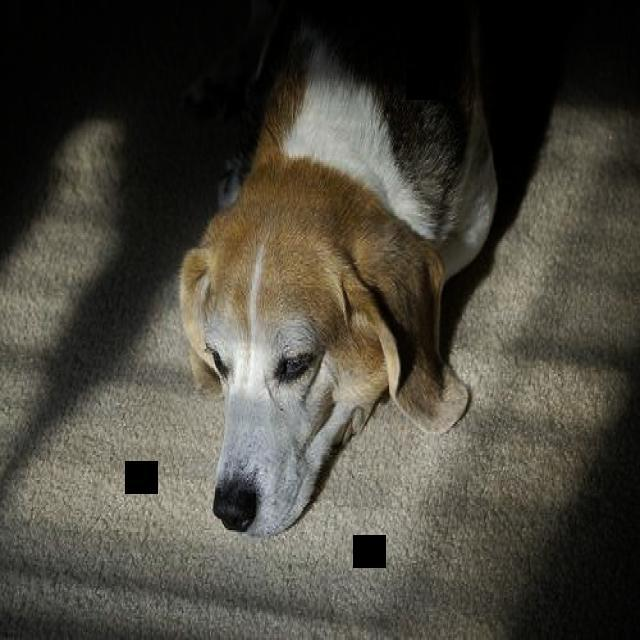adult_dog: (172, 1, 493, 539)
